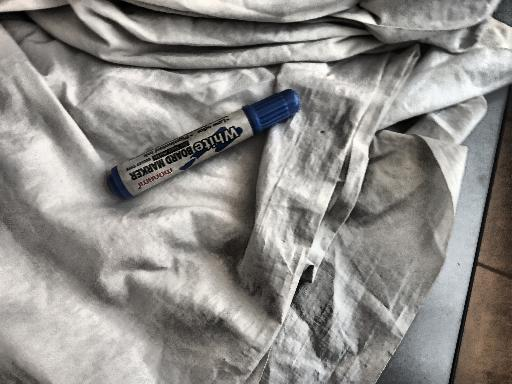marcador azul: (107, 89, 300, 198)
